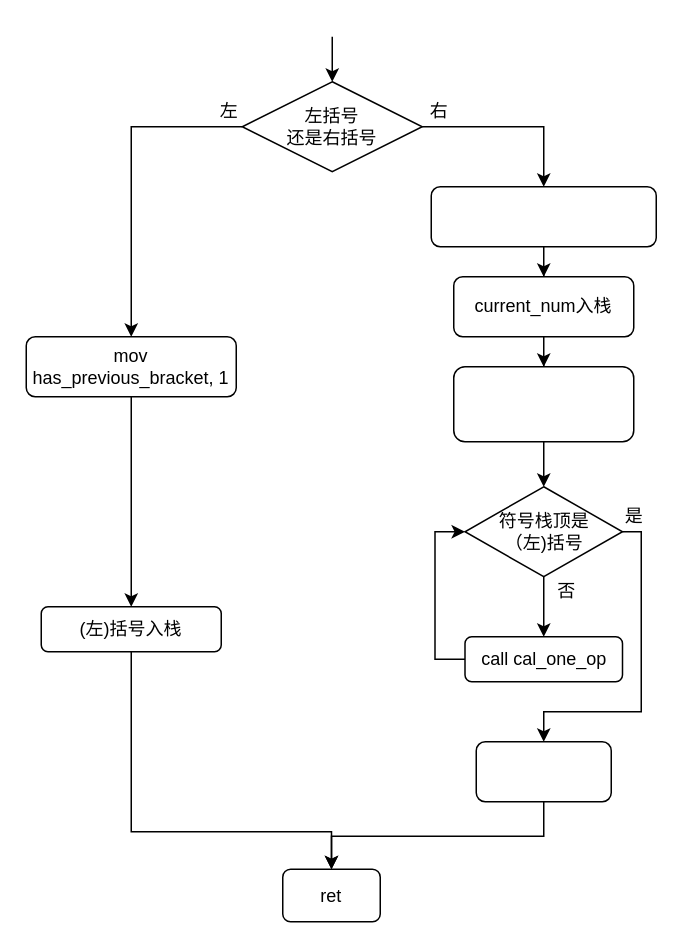
The diagram is 683 pixels wide and 948 high, and some of its shapes have lost their labels. The shapes that lost their labels are listed below. From the top down, each one's box as (x1, y1, x2, y2) in pixels, then its label:
(430, 185, 656, 247): mov has_previous_bracket, 0
(452, 365, 634, 442): mov led_count, 0 mov current_num, 0
(475, 740, 611, 802): (左)括号出栈
